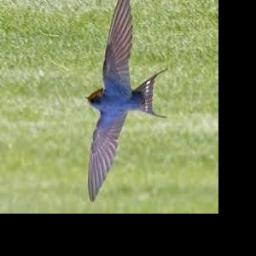Swallow: (84, 0, 167, 203)
